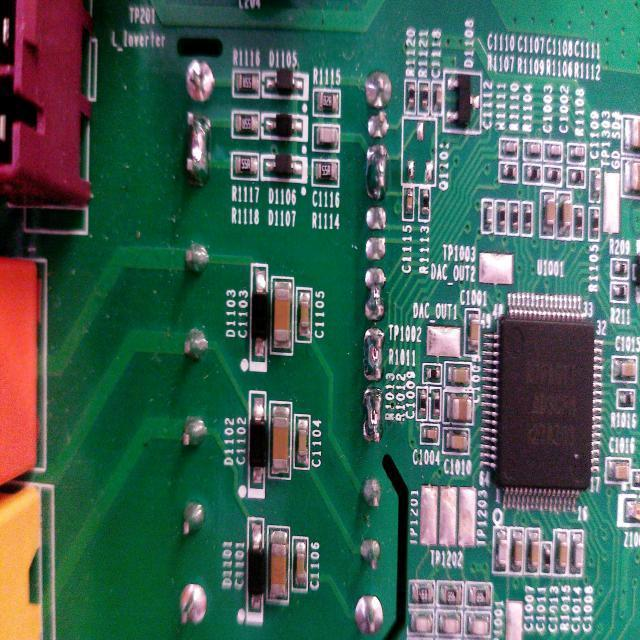Soldering shorted: (180, 104, 216, 190), (362, 140, 394, 202), (360, 323, 390, 385), (360, 384, 387, 446), (362, 262, 388, 323)
